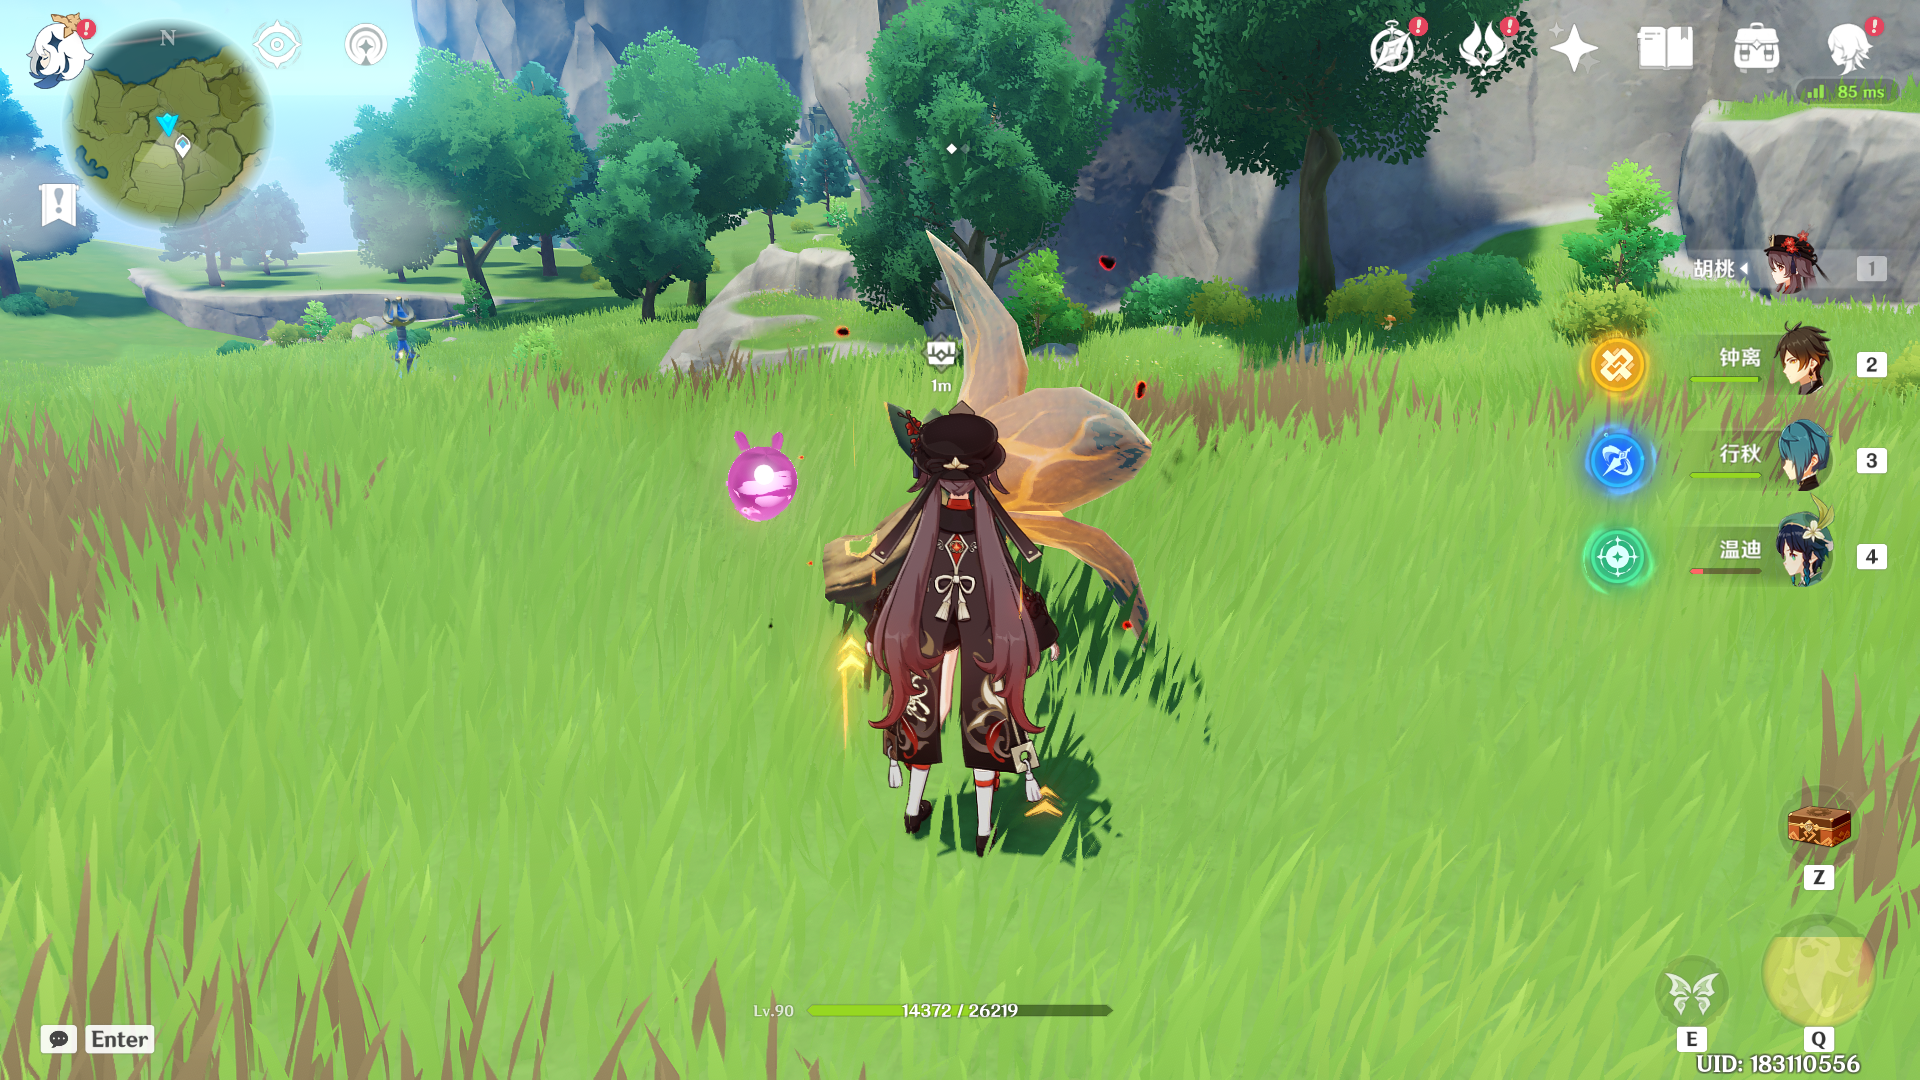character: (775, 369, 1151, 913)
